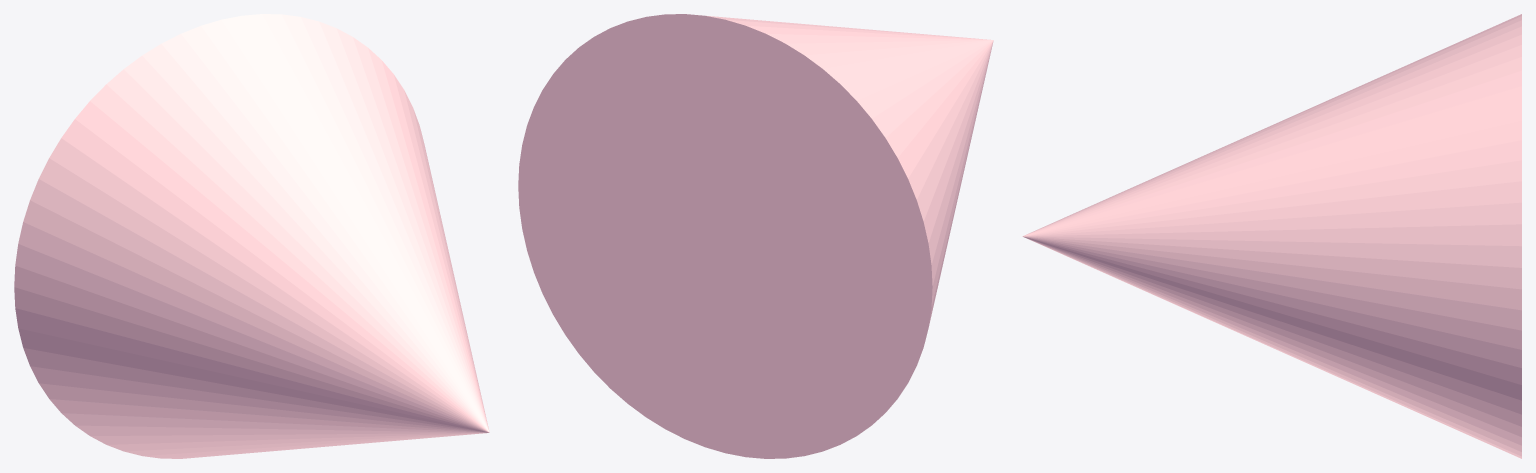
The model's file is kerucut.glb.
3 views of the same model, side by side, from view 1: azimuth 30°, elevation 25°; view 2: azimuth 150°, elevation 25°; view 3: azimuth 270°, elevation 25° (orthographic). The views are drawn at different scales.
Parts seen in each view (by area): view 1: kerucut; view 2: kerucut; view 3: kerucut.
Part boxes in pixels (x1,y1,x2,y2): kerucut: (14,14,489,458); kerucut: (518,14,993,458); kerucut: (1022,14,1521,458).
Size of the model in its own units: 1.56 by 1.56 by 1.75.
